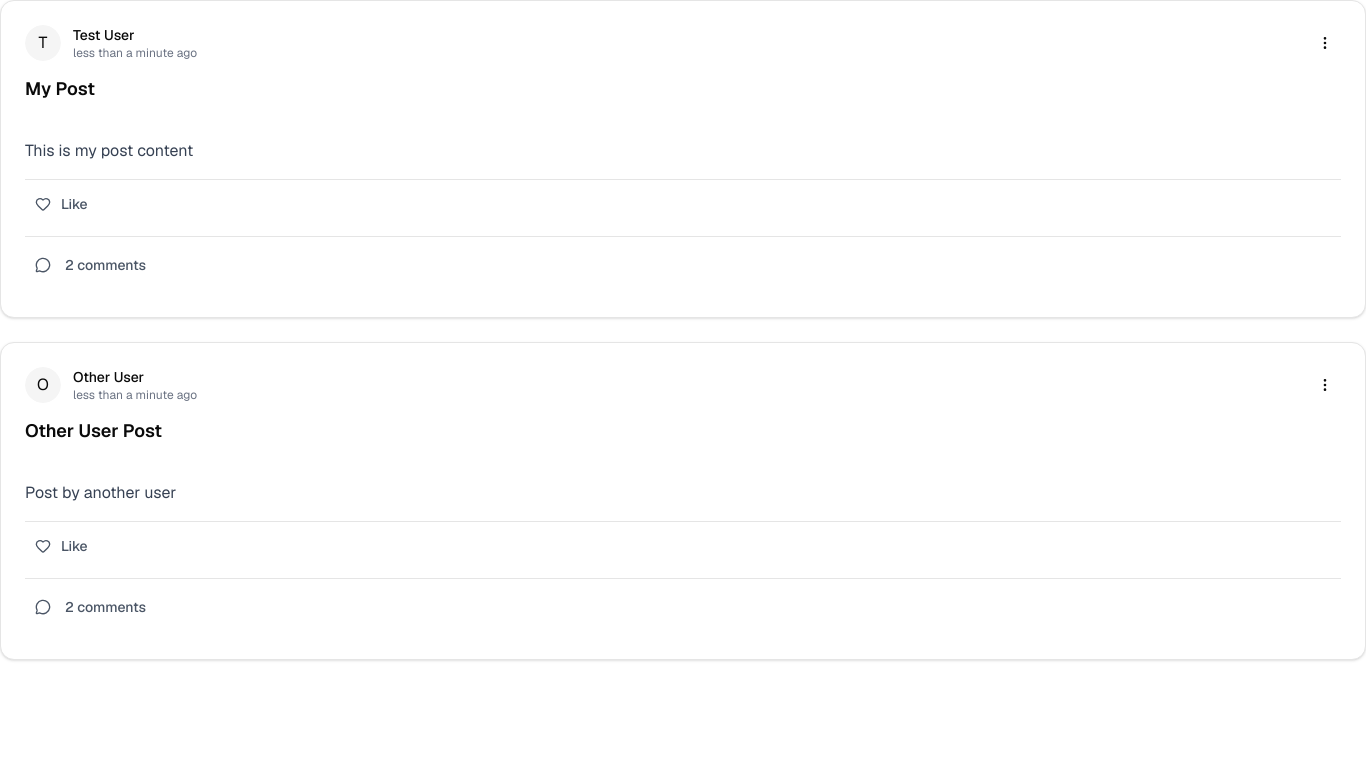
Test: AlbumPostFeed › Permission-based Dropdown Display › shows only delete option for other users posts as admin
# Click dropdown for other user's post
Click the button with test id "post-dropdown-post-2". click: (1325, 385)
box: [1309,369,1341,401]
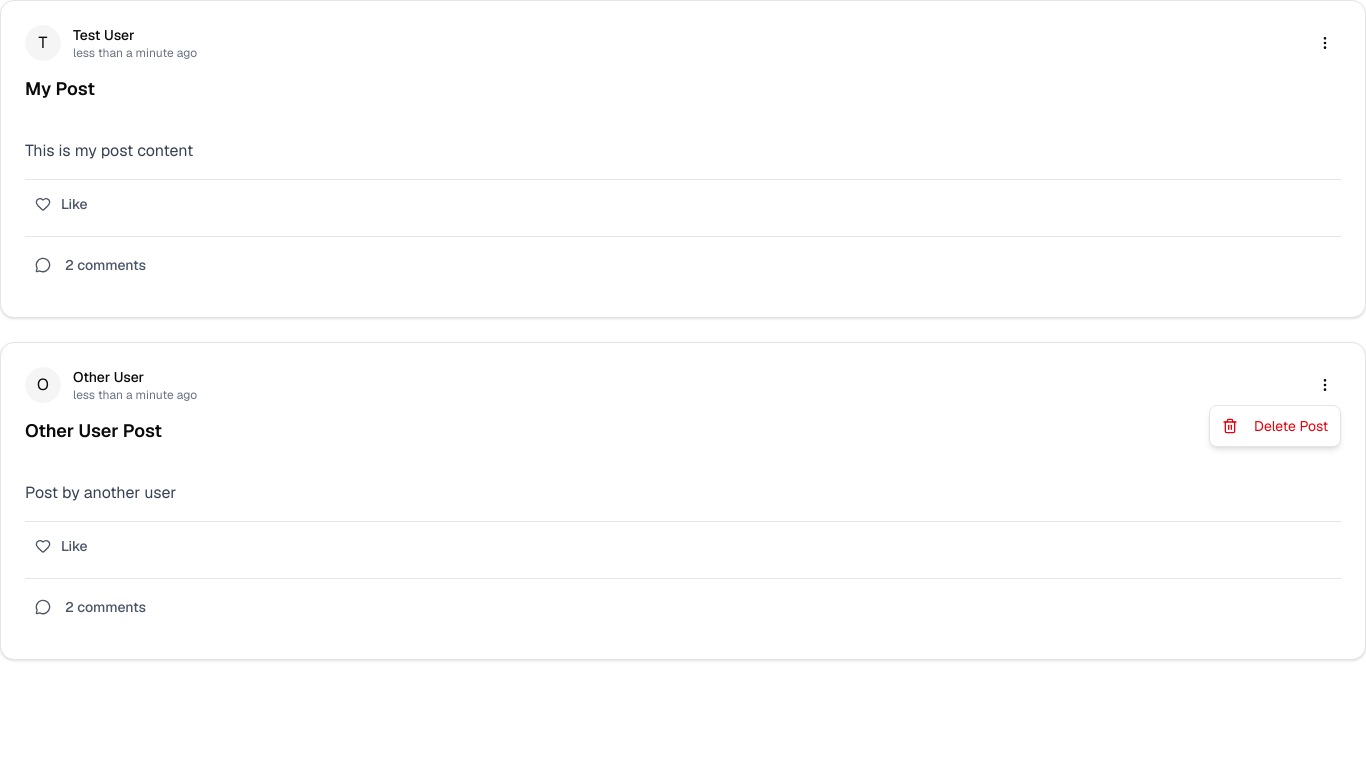
Now the menu item "Delete Post" is shown, box [1222,417,1328,435]
